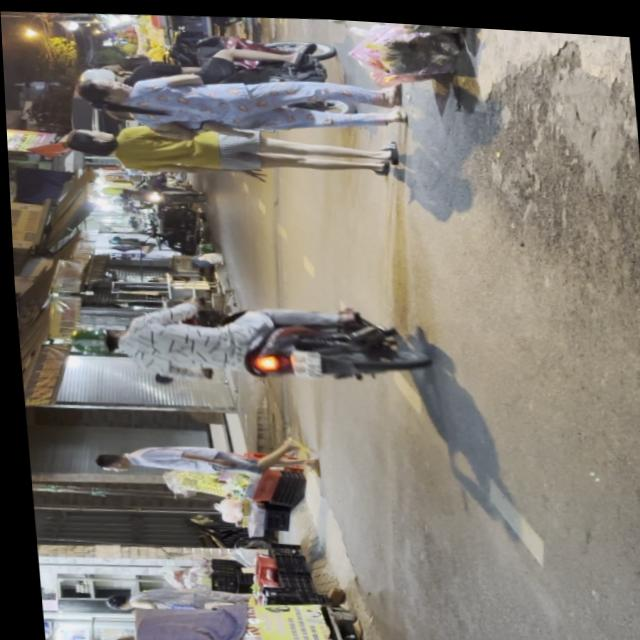helmet: (64, 325, 120, 360)
licenseplate: (58, 283, 427, 397)
nohelmet: (286, 347, 316, 375)
